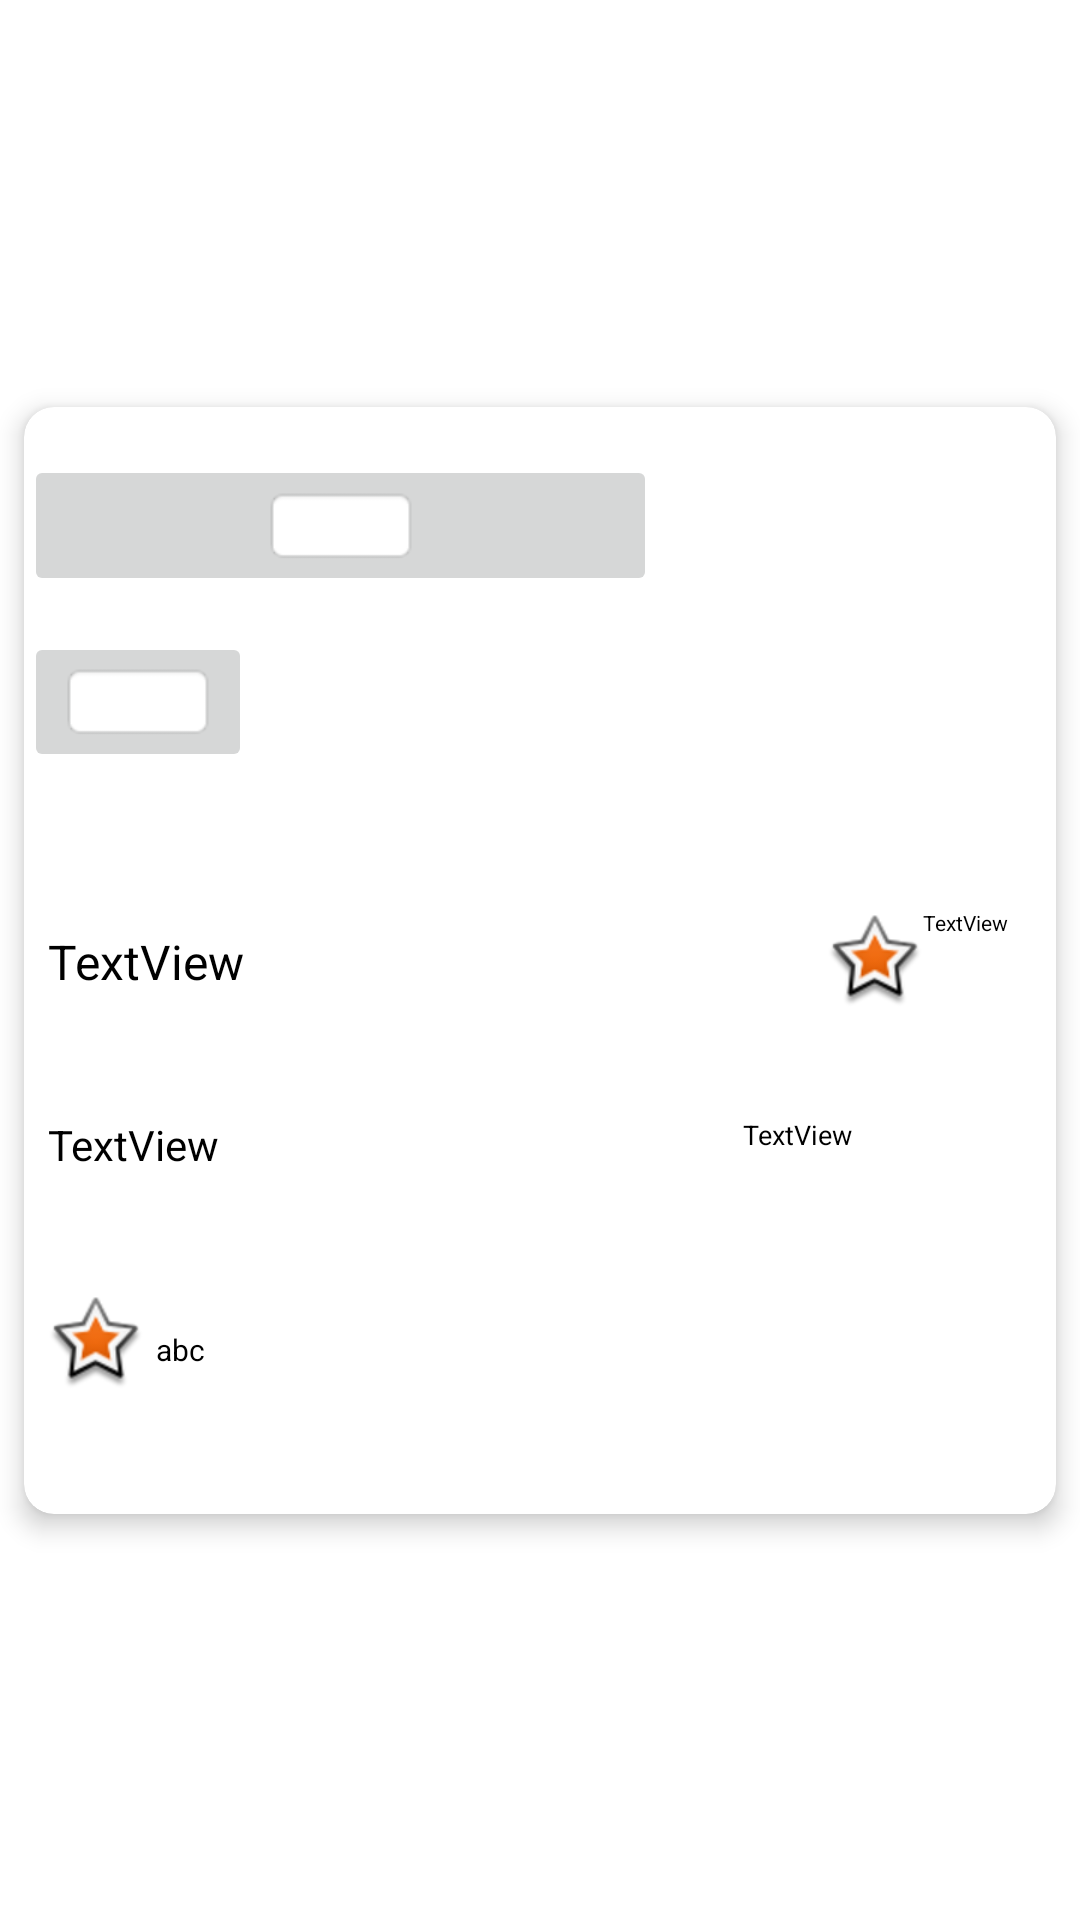

Screen size 1080x1920. Icon name, then its center in pixels as (x,y):
star on: (875,958), (96,1340)
